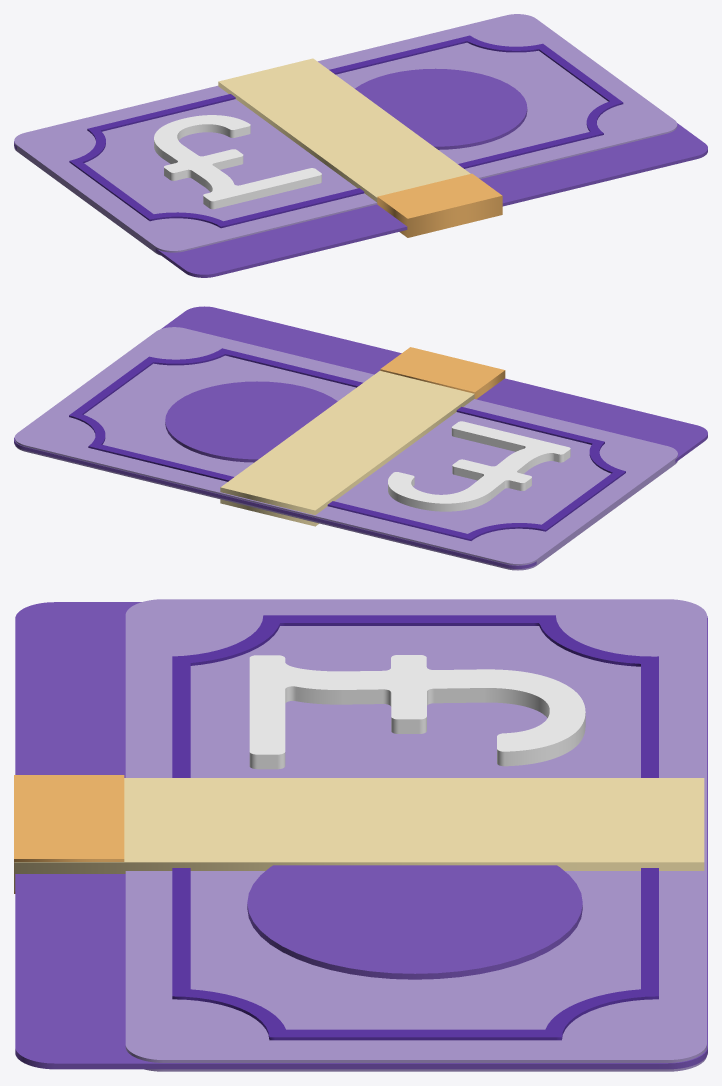
File: emoji_u1f4b7.glb
The picture shows the model from 3 angles, top to bottom: view 1: azimuth 30°, elevation 25°; view 2: azimuth 150°, elevation 25°; view 3: azimuth 270°, elevation 25°; orthographic projection. The views are drawn at different scales.
Parts seen in each view (by area): view 1: emoji_u1f4b7; view 2: emoji_u1f4b7; view 3: emoji_u1f4b7.
Boxes of the visible parts, box(x1,y1,x2,y2) form: emoji_u1f4b7: box(14, 14, 707, 277); emoji_u1f4b7: box(14, 306, 707, 570); emoji_u1f4b7: box(14, 599, 707, 1071).
Size of the model in its own units: 0.0339 by 0.0014 by 0.0215.
